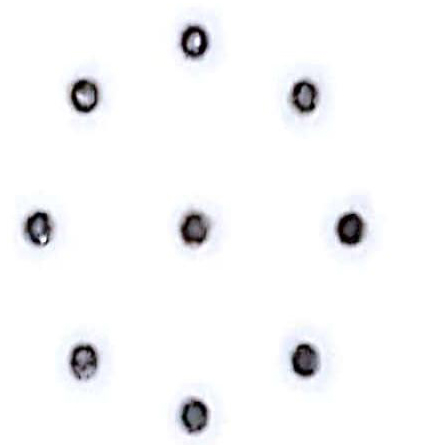cancer: (158, 4, 245, 75), (263, 61, 343, 138), (55, 58, 129, 131), (155, 377, 231, 444), (270, 322, 342, 392), (314, 192, 381, 265), (9, 196, 78, 265), (166, 191, 235, 259), (47, 324, 113, 393)
